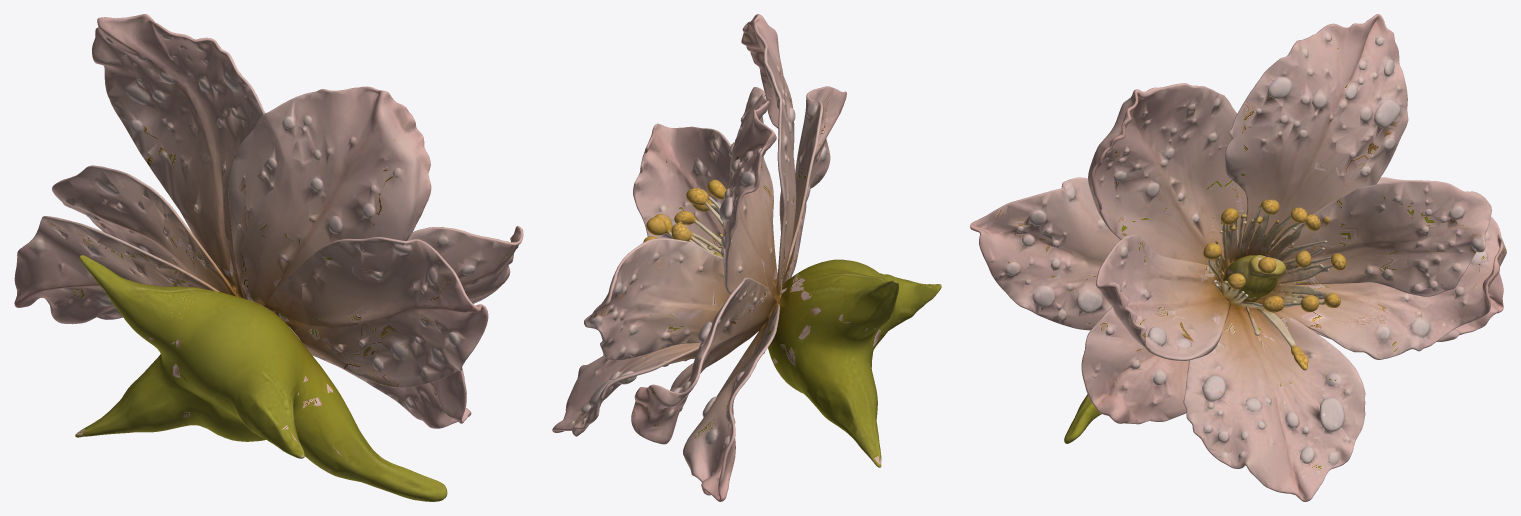
Rendered from flower.glb.
The picture shows the model from 3 angles, left to right: view 1: azimuth 30°, elevation 25°; view 2: azimuth 150°, elevation 25°; view 3: azimuth 270°, elevation 25°; orthographic projection. The views are drawn at different scales.
Parts seen in each view (by area): view 1: tripo_node_684f251e-7749-4adf-af75-599b88063c6f; view 2: tripo_node_684f251e-7749-4adf-af75-599b88063c6f; view 3: tripo_node_684f251e-7749-4adf-af75-599b88063c6f.
Part boxes in pixels (x1,y1,x2,y2): tripo_node_684f251e-7749-4adf-af75-599b88063c6f: (14,14,523,501); tripo_node_684f251e-7749-4adf-af75-599b88063c6f: (552,14,941,501); tripo_node_684f251e-7749-4adf-af75-599b88063c6f: (970,14,1506,501).
Size of the model in its own units: 0.679 by 0.7657 by 0.9925.
Materials: 1 (1 with a texture image).
